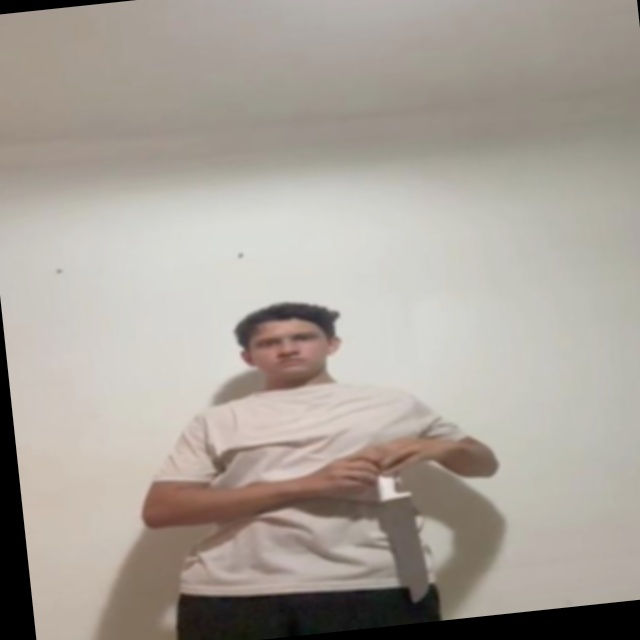Sharp-Object: (377, 494, 436, 602)
